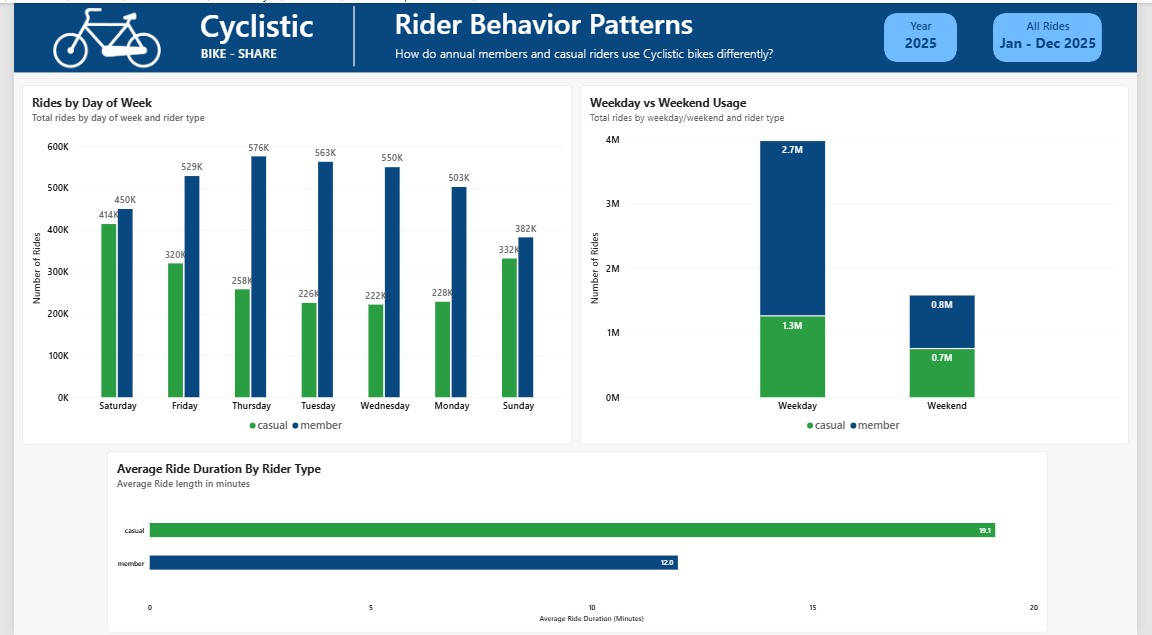

What the dashboard file says about the page in this screenshot:
{"tool":"powerbi","page":{"name":"Page 2","canvas":[1920,1080],"ordinal":1},"visuals":[{"type":"shape","box":[0,0,1920,118.6],"z":0},{"type":"image","box":[58.1,8.5,201.7,102.8],"z":1000},{"type":"textbox","box":[304.5,0,221.5,71.2],"z":2000},{"type":"textbox","box":[644.6,71.2,660.4,29.7],"z":3000},{"type":"textbox","box":[644.6,2,522,67.2],"z":4000},{"type":"textbox","box":[304.5,71.2,160.2,37.6],"z":5000},{"type":"shape","box":[1486.7,17.1,124.7,83.7],"z":6000},{"type":"shape","box":[1673,17.1,186.3,83.7],"z":7000},{"type":"textbox","box":[1502.1,25.6,95.7,68.4],"z":8000},{"type":"textbox","box":[1683.2,25.6,167.5,59.8],"z":9000},{"type":"shape","box":[561.6,5.9,37.6,102.8],"z":10000},{"type":"clusteredColumnChart","title":"Rides by Day of Week","fields":{"Category":["Weekdays Pattern.day_of_week"],"Series":["Weekdays Pattern.member_casual"],"Y":["Sum(Weekdays Pattern.ride_count)"]},"box":[13.7,140,939.9,615.2],"z":11000},{"type":"columnChart","title":"Weekday vs Weekend Usage","fields":{"Category":["Weekday vs Weekend.weekday_weekend"],"Series":["Weekday vs Weekend.member_casual"],"Y":["Sum(Weekday vs Weekend.ride_count)"]},"box":[967.2,140,938.2,615.2],"z":12000},{"type":"barChart","title":"Average Ride Duration By Rider Type","fields":{"Category":["Rider Type.member_casual"],"Y":["Rider Type.Average Ride Duration"]},"box":[158.2,765.2,1607.6,310.4],"z":12001}]}

Visuals, with their boxes in screenshot pixels (x1, y1, x2, y2), scaled from the page's 1920x1080 canvas onto the 1152x635 screenshot:
shape: <region>0, 0, 1151, 70</region>
image: <region>35, 5, 156, 65</region>
textbox: <region>183, 0, 316, 42</region>
textbox: <region>387, 42, 783, 59</region>
textbox: <region>387, 1, 700, 41</region>
textbox: <region>183, 42, 279, 64</region>
shape: <region>892, 10, 967, 59</region>
shape: <region>1004, 10, 1116, 59</region>
textbox: <region>901, 15, 959, 55</region>
textbox: <region>1010, 15, 1110, 50</region>
shape: <region>337, 3, 360, 64</region>
"Rides by Day of Week" clusteredColumnChart: <region>8, 82, 572, 444</region>
"Weekday vs Weekend Usage" columnChart: <region>580, 82, 1143, 444</region>
"Average Ride Duration By Rider Type" barChart: <region>95, 450, 1059, 632</region>
